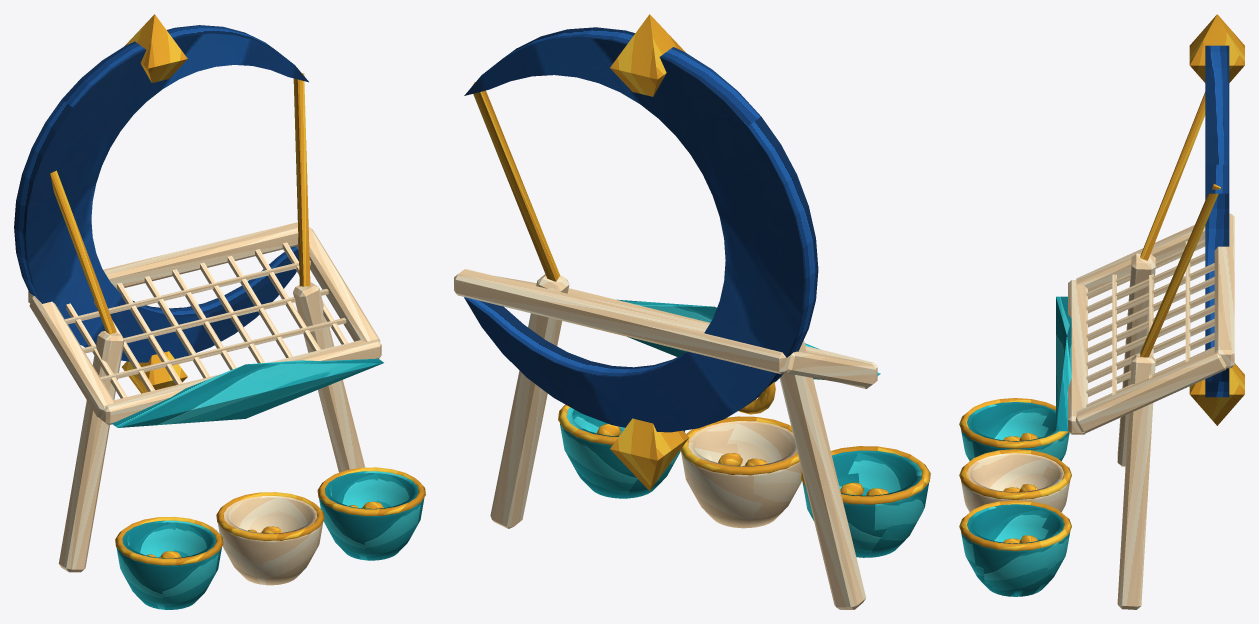
File: revised-03-01.glb
3 renders of one model, left to right at view 1: azimuth 30°, elevation 25°; view 2: azimuth 150°, elevation 25°; view 3: azimuth 270°, elevation 25°, orthographic. The views are drawn at different scales.
Parts seen in each view (by area): view 1: moon_sorter; view 2: moon_sorter; view 3: moon_sorter.
Part boxes in pixels (x1,y1,x2,y2): moon_sorter: (14, 14, 425, 609); moon_sorter: (454, 14, 930, 609); moon_sorter: (959, 14, 1244, 609).
Size of the model in its own units: 0.9993 by 1.55 by 0.779.
2 materials, 2 textured.
